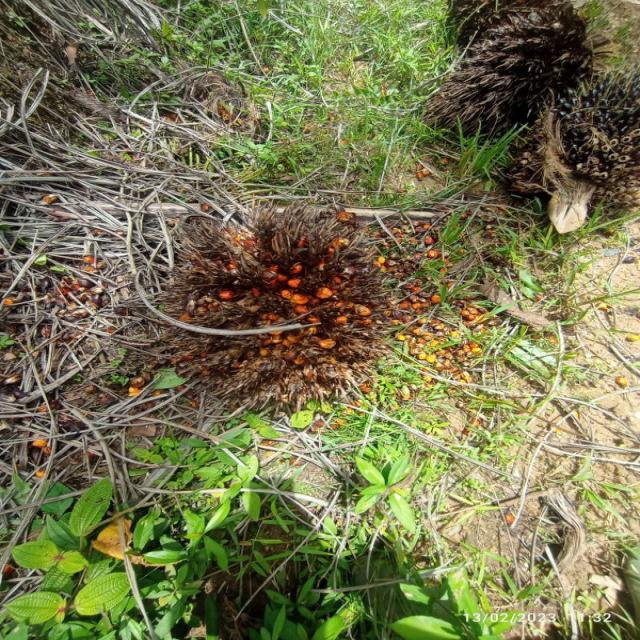fraksi 00: (502, 35, 640, 248)
fraksi 4: (124, 178, 420, 444)
